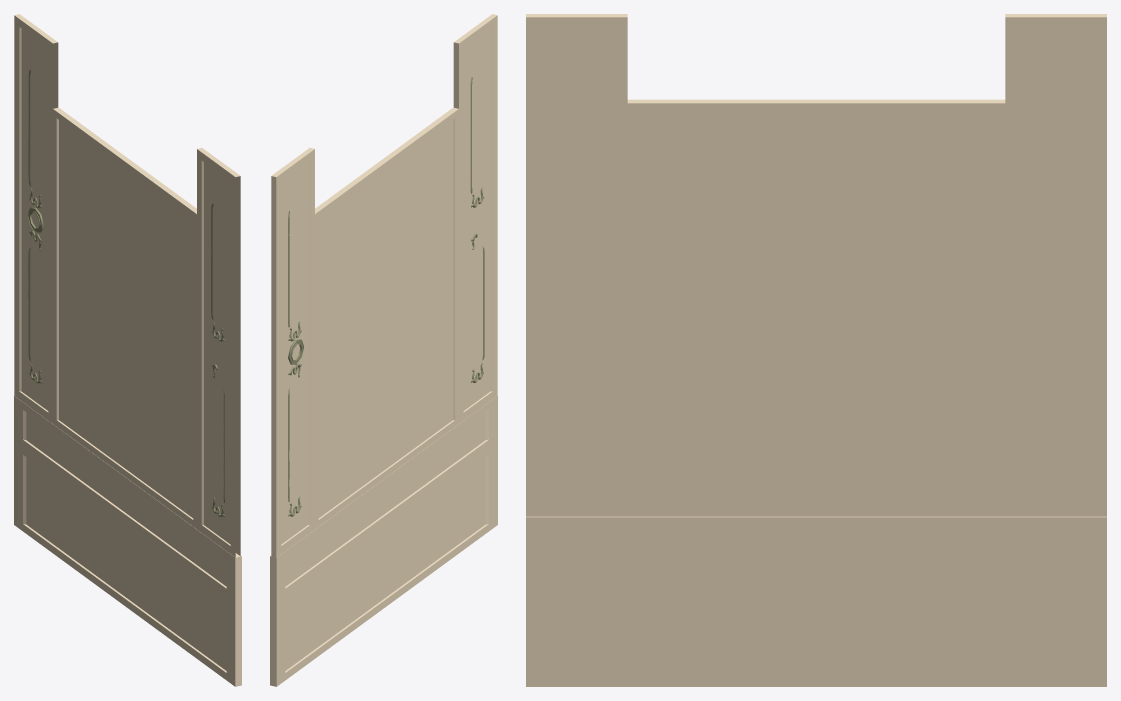
Rendered from Boiserie_Broken04.fbx.
3 renders of one model, left to right at view 1: azimuth 30°, elevation 25°; view 2: azimuth 150°, elevation 25°; view 3: azimuth 270°, elevation 25°, orthographic. The views are drawn at different scales.
Parts seen in each view (by area): view 1: Cube.192; view 2: Cube.192; view 3: Cube.192.
Boxes of the visible parts, <box> form: Cube.192: <box>14,14,241,686</box>; Cube.192: <box>270,14,497,686</box>; Cube.192: <box>526,14,1106,686</box>.
Bounding box in the file's own units: 5.13 × 387 × 304.
